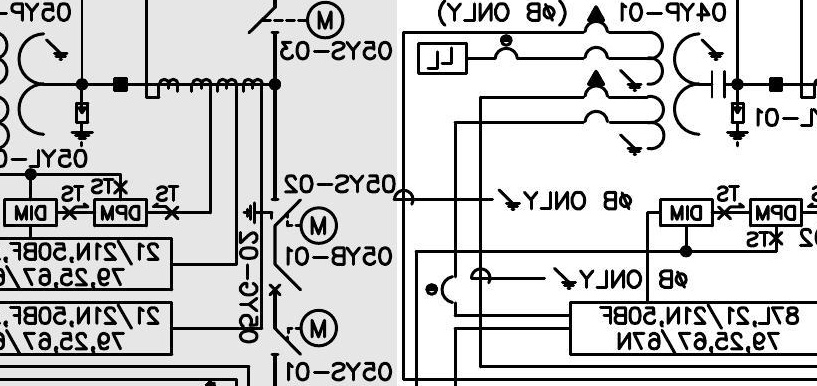115_1way_ds_w_motor: (270, 308, 339, 356)
115_3ways_ds_w_motor: (242, 198, 339, 246)
115_breaker: (268, 263, 303, 297)
115_cvt_1p: (581, 5, 727, 157)
115_la: (725, 102, 750, 148), (70, 102, 94, 148)
DIM: (659, 198, 714, 228), (3, 198, 58, 228)
DPM: (93, 198, 148, 228), (749, 198, 803, 227)
LL: (417, 42, 468, 76)
